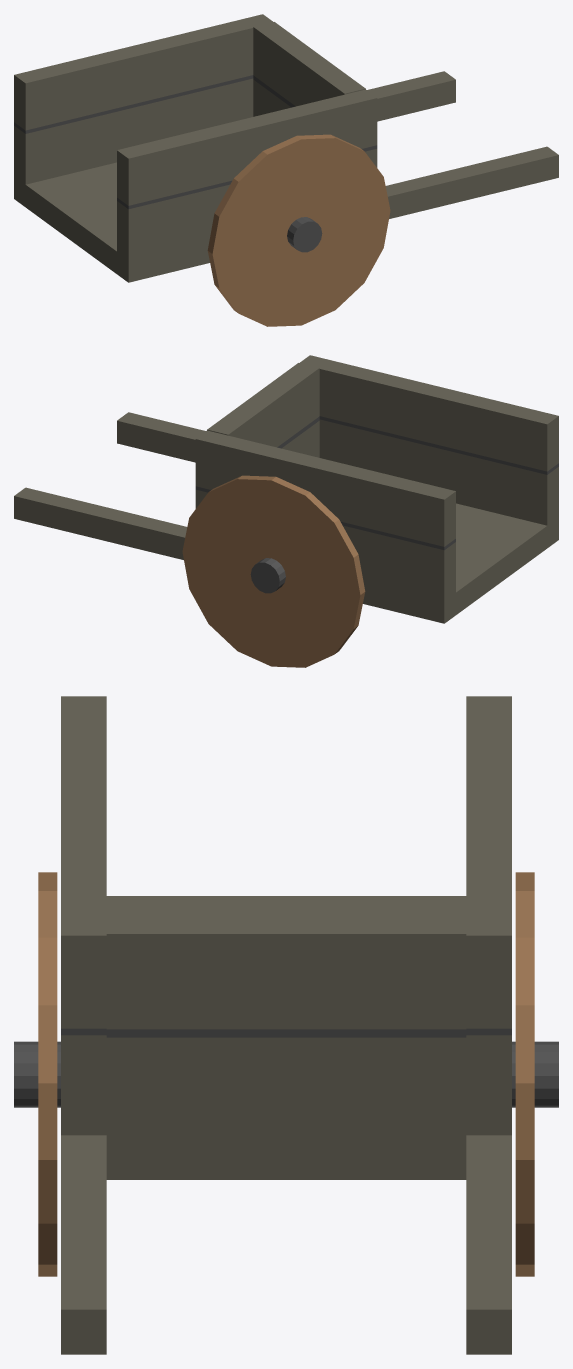
The model's file is village-woozek.fbx.
3 renders of one model, top to bottom at view 1: azimuth 30°, elevation 25°; view 2: azimuth 150°, elevation 25°; view 3: azimuth 270°, elevation 25°, orthographic. The views are drawn at different scales.
Visible parts, largest first — view 1: Cube.018; view 2: Cube.018; view 3: Cube.018.
Part boxes in pixels (bbox=[...]): Cube.018: bbox=[14, 14, 558, 326]; Cube.018: bbox=[14, 355, 558, 667]; Cube.018: bbox=[14, 696, 558, 1354].
Bounding box in the file's own units: 674 × 306 × 375.
